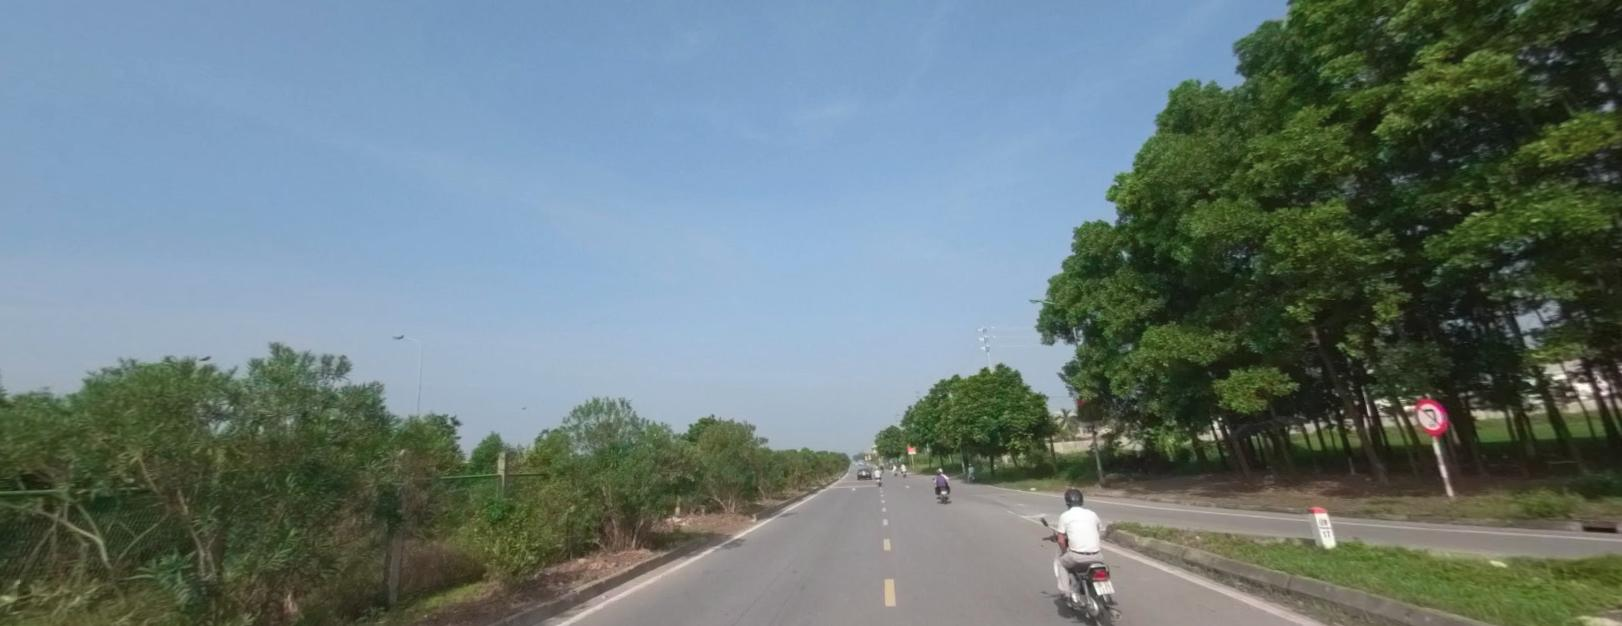Cam re: (1411, 395, 1452, 435)
